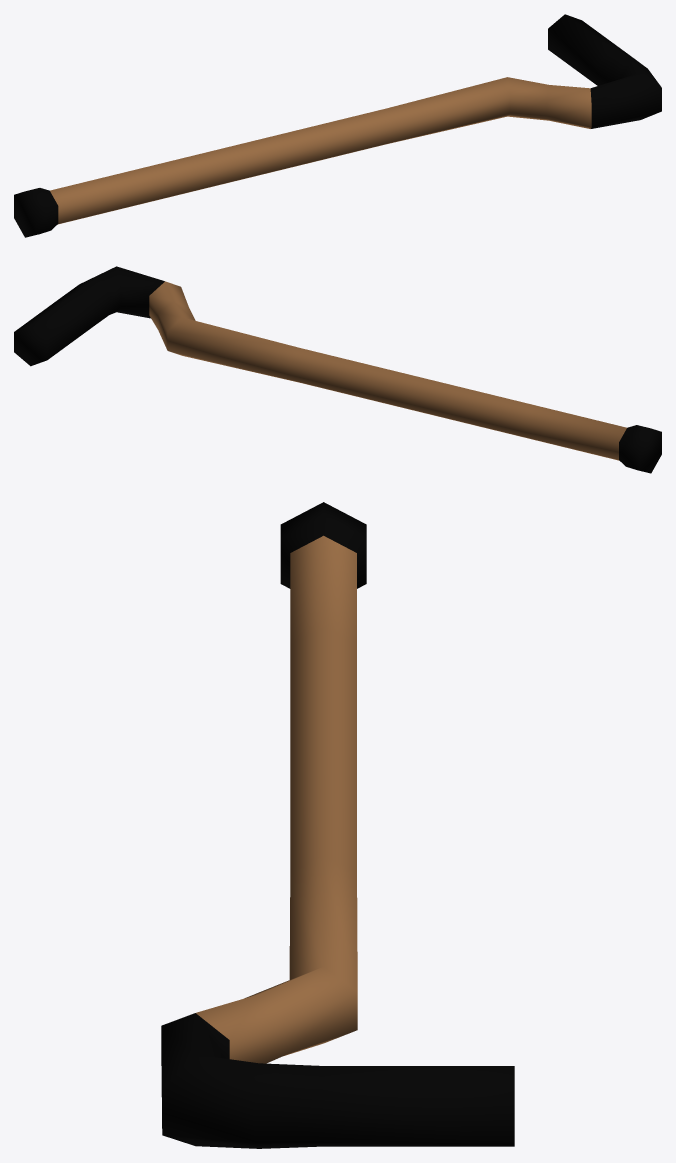
File: char_010_item_walking_stick_01_FBX.fbx
The picture shows the model from 3 angles, top to bottom: view 1: azimuth 30°, elevation 25°; view 2: azimuth 150°, elevation 25°; view 3: azimuth 270°, elevation 25°; orthographic projection. The views are drawn at different scales.
Visible parts, largest first — view 1: item_walking_stick_01; view 2: item_walking_stick_01; view 3: item_walking_stick_01.
Boxes of the visible parts, x1=… form: item_walking_stick_01: x1=14, y1=14, x2=661, y2=237; item_walking_stick_01: x1=14, y1=266, x2=661, y2=473; item_walking_stick_01: x1=161, y1=502, x2=514, y2=1148.
Bounding box in the file's own units: 2.87 × 0.2132 × 0.7433.
Materials: 1 (1 with a texture image).
